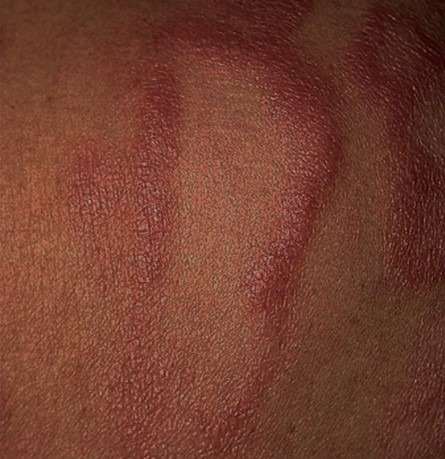Leprosy: (186, 0, 347, 336), (342, 0, 444, 428), (70, 0, 181, 296)
